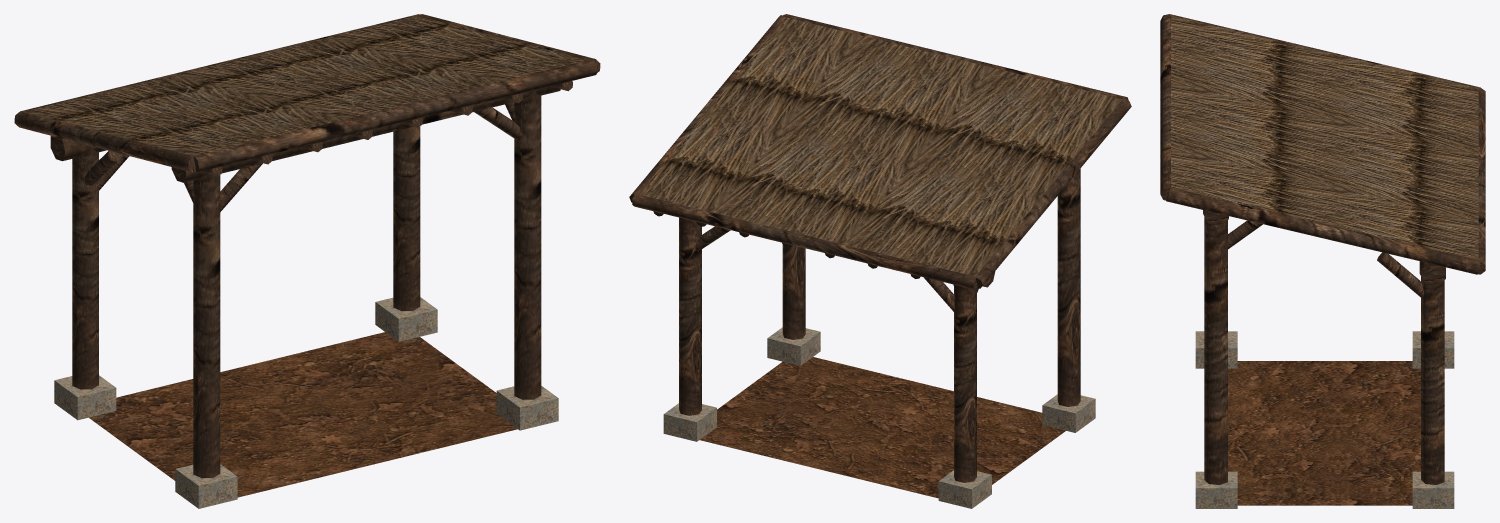
File: stockShelter.glb
3 renders of one model, left to right at view 1: azimuth 30°, elevation 25°; view 2: azimuth 150°, elevation 25°; view 3: azimuth 270°, elevation 25°, orthographic. The views are drawn at different scales.
Parts seen in each view (by area): view 1: part_2, part_0, part_3, part_1; view 2: part_3, part_2, part_0, part_1; view 3: part_3, part_0, part_2, part_1.
Part boxes in pixels (<box>): part_2: <box>14,14,600,478</box>; part_0: <box>89,332,517,497</box>; part_3: <box>23,16,587,156</box>; part_1: <box>54,297,558,508</box>; part_3: <box>638,17,1122,276</box>; part_2: <box>629,14,1131,482</box>; part_0: <box>700,357,1065,498</box>; part_1: <box>663,327,1095,508</box>; part_3: <box>1171,15,1478,260</box>; part_0: <box>1228,361,1420,505</box>; part_2: <box>1160,14,1485,484</box>; part_1: <box>1195,331,1454,508</box>.
Size of the model in its own units: 2.45 by 2.1 by 1.87.
4 materials, 4 textured.
